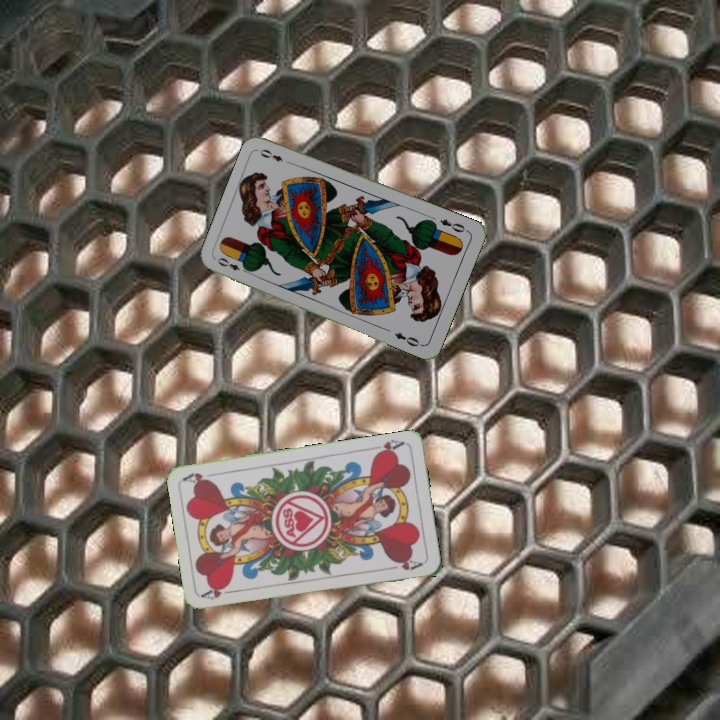EO: (213, 253, 252, 276), (436, 215, 471, 235)
HA: (371, 435, 407, 458), (198, 583, 239, 602)
